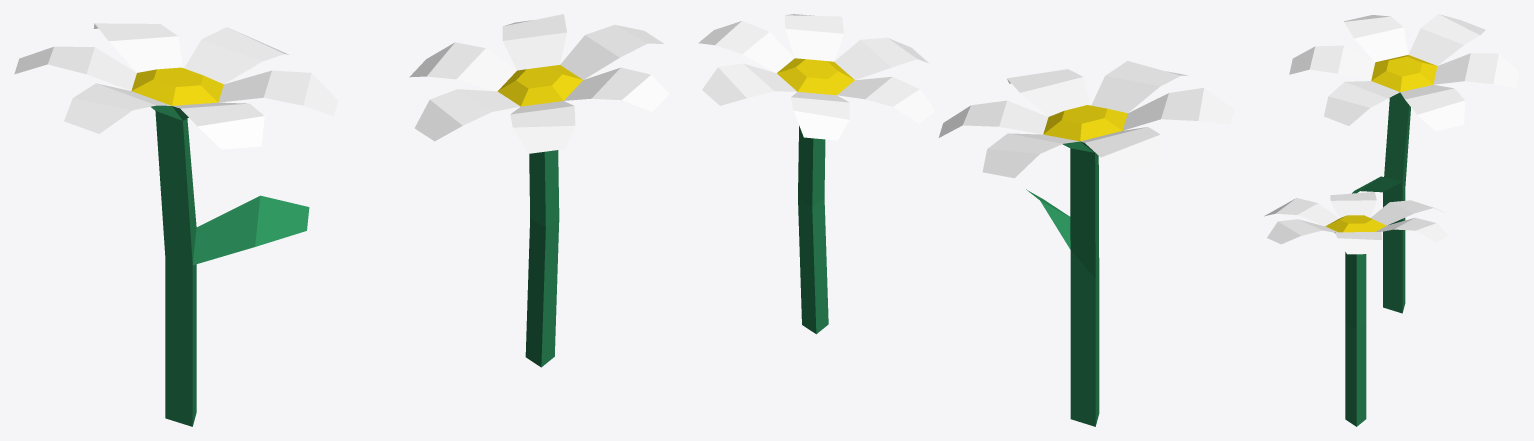
File: flower.gltf
3 renders of one model, left to right at view 1: azimuth 30°, elevation 25°; view 2: azimuth 150°, elevation 25°; view 3: azimuth 270°, elevation 25°, orthographic. The views are drawn at different scales.
Visible parts, largest first — view 1: Circle.006_Circle.007, Circle.001; view 2: Circle.006_Circle.007, Circle.001; view 3: Circle.006_Circle.007, Circle.001.
Part boxes in pixels (bbox=[...]): Circle.006_Circle.007: bbox=[14, 23, 338, 426]; Circle.001: bbox=[409, 14, 669, 367]; Circle.006_Circle.007: bbox=[938, 61, 1234, 426]; Circle.001: bbox=[698, 14, 934, 334]; Circle.006_Circle.007: bbox=[1289, 14, 1519, 313]; Circle.001: bbox=[1264, 192, 1448, 426].
Bounding box in the file's own units: 56.54 × 33.38 × 30.19.
1 material, 1 textured.
